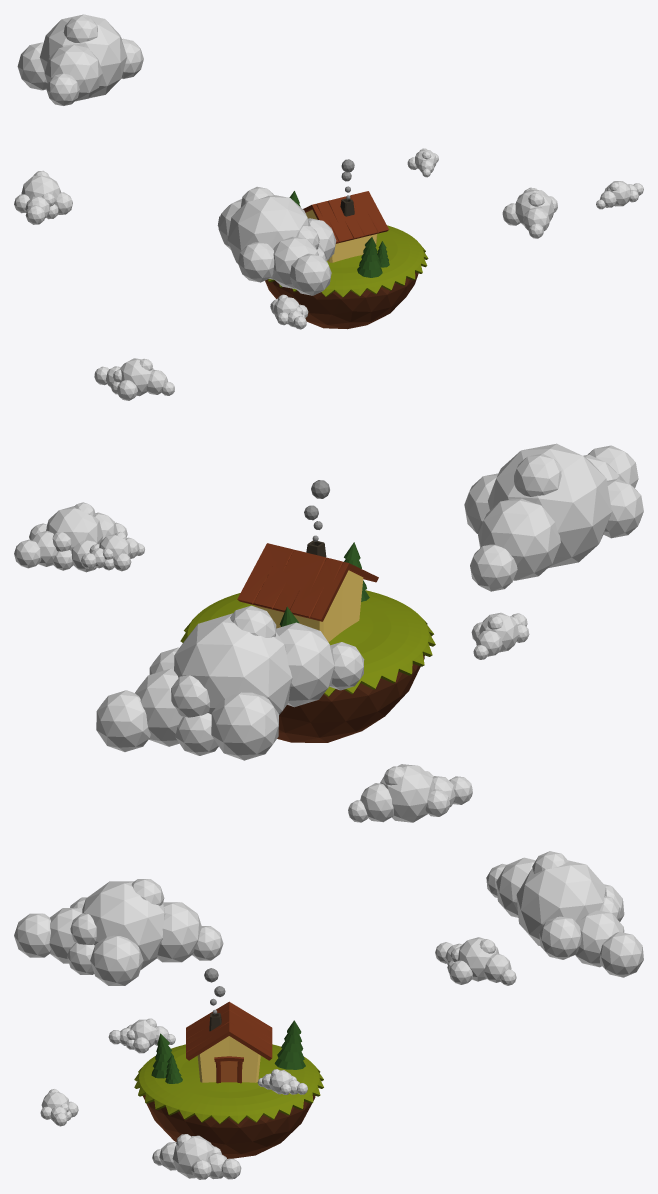
The model's file is low_poly_house.glb.
3 renders of one model, top to bottom at view 1: azimuth 30°, elevation 25°; view 2: azimuth 150°, elevation 25°; view 3: azimuth 270°, elevation 25°, orthographic. The views are drawn at different scales.
Visible parts, largest first — view 1: Icosphere.001_7, Icosphere.007_13, Icosphere_21, Sphere_22, casa_5, Icosphere.002_8, Icosphere.005_11, Icosphere.004_10, Icosphere.006_12, Cone_25, Icosphere.003_9; view 2: Icosphere.007_13, Icosphere.001_7, casa_5, Sphere_22, Icosphere_21, Icosphere.002_8, Icosphere.005_11, Icosphere.006_12, Icosphere.004_10, Icosphere.003_9; view 3: Icosphere.001_7, Icosphere.007_13, Sphere_22, casa_5, Icosphere_21, Icosphere.002_8, Icosphere.005_11, Icosphere.004_10, Cone.002_24, Icosphere.006_12, Icosphere.003_9, Cone_25.
Boxes of the visible parts, x1,y1,x2,y2 form: Icosphere.001_7: (217, 186, 336, 295); Icosphere.007_13: (17, 14, 143, 105); Icosphere_21: (265, 272, 418, 329); Sphere_22: (268, 225, 428, 297); casa_5: (303, 191, 388, 262); Icosphere.002_8: (14, 170, 72, 224); Icosphere.005_11: (502, 187, 557, 238); Icosphere.004_10: (270, 294, 308, 329); Icosphere.006_12: (596, 181, 643, 209); Cone_25: (357, 237, 382, 277); Icosphere.003_9: (407, 148, 438, 177); Icosphere.007_13: (96, 605, 364, 760); Icosphere.001_7: (464, 443, 643, 591); casa_5: (237, 543, 378, 642); Sphere_22: (180, 590, 435, 696); Icosphere_21: (277, 655, 424, 742); Icosphere.002_8: (348, 764, 472, 822); Icosphere.005_11: (14, 502, 127, 572); Icosphere.006_12: (94, 358, 174, 400); Icosphere.004_10: (471, 612, 529, 659); Icosphere.003_9: (81, 532, 144, 571); Icosphere.001_7: (14, 879, 223, 985); Icosphere.007_13: (486, 851, 643, 977); Sphere_22: (134, 1044, 323, 1124); casa_5: (186, 1001, 272, 1083); Icosphere_21: (143, 1095, 315, 1158); Icosphere.002_8: (435, 937, 516, 985); Icosphere.005_11: (152, 1134, 241, 1179); Icosphere.004_10: (108, 1018, 175, 1053); Cone.002_24: (274, 1020, 305, 1069); Icosphere.006_12: (40, 1089, 78, 1126); Icosphere.003_9: (257, 1069, 307, 1094); Cone_25: (151, 1033, 179, 1078).
Size of the model in its own units: 19.39 by 9.4 by 22.36.
